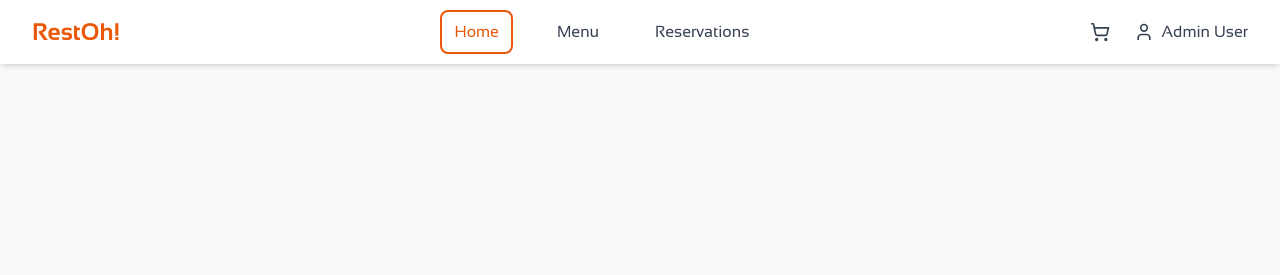
Test: Header Component › Authentication States › should display admin panel link for admin users only
Open user menu
Click the button "Admin User" at (1191, 32), box [1134, 20, 1248, 44]
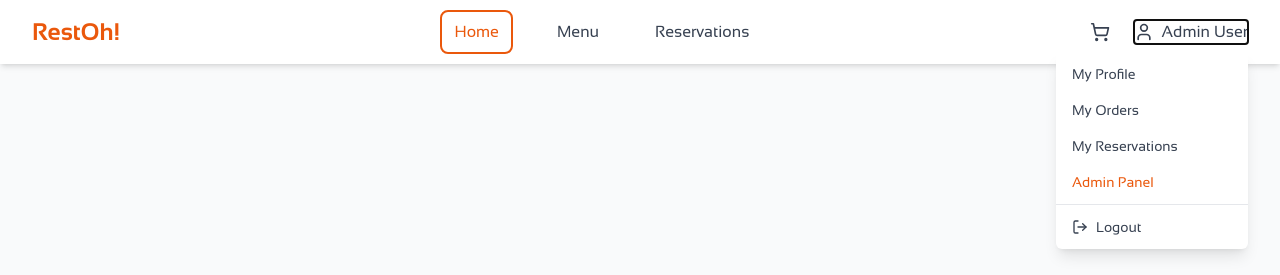
Now the link "Admin Panel" is shown, box [1072, 174, 1154, 190]
